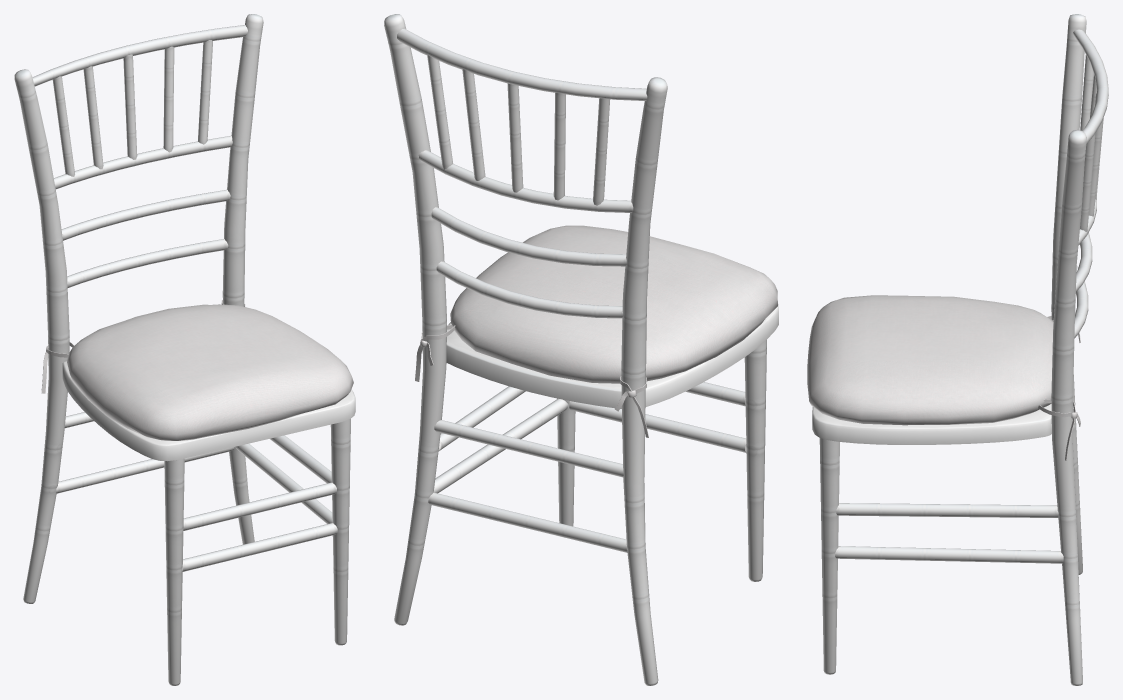
The model's file is EventChair04.FBX.
3 views of the same model, side by side, from view 1: azimuth 30°, elevation 25°; view 2: azimuth 150°, elevation 25°; view 3: azimuth 270°, elevation 25° (orthographic). The views are drawn at different scales.
Visible parts, largest first — view 1: EventChair04; view 2: EventChair04; view 3: EventChair04.
Boxes of the visible parts, left/top/right/bottom form: EventChair04: left=14, top=14, right=355, bottom=685; EventChair04: left=384, top=14, right=778, bottom=685; EventChair04: left=807, top=14, right=1108, bottom=685.
Size of what is drawn, in the model's own units: 0.5063 by 1.05 by 0.5139.
